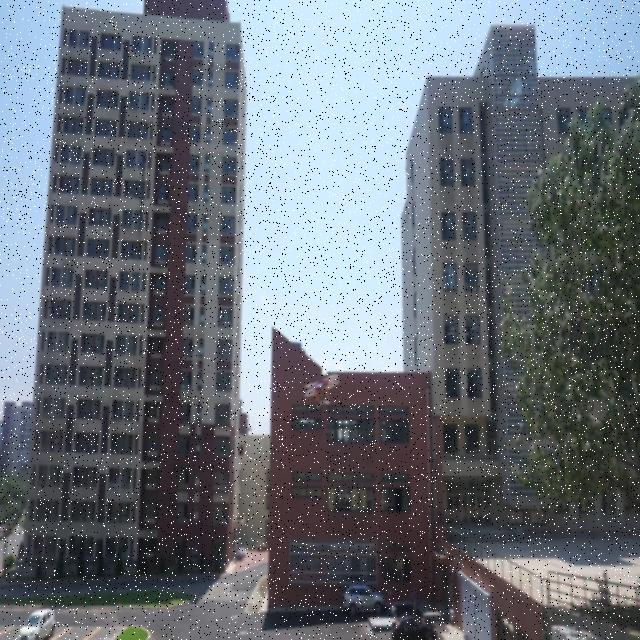UAV: (303, 374, 340, 409)
